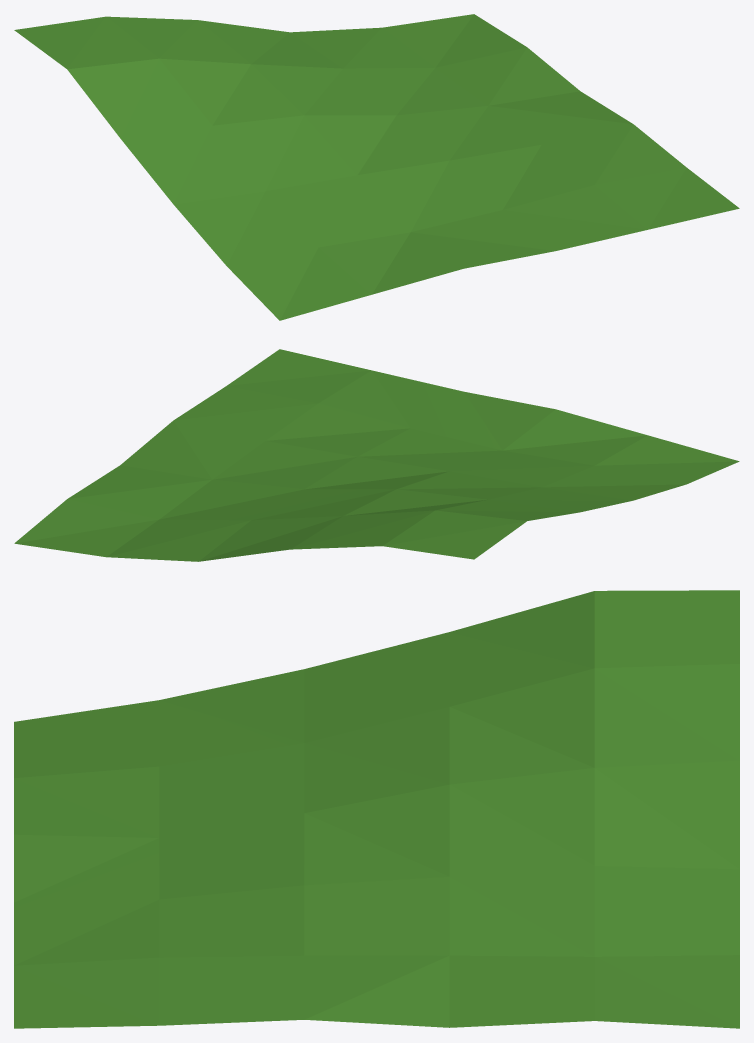
Rendered from terrain-plane-hill3.glb.
The picture shows the model from 3 angles, top to bottom: view 1: azimuth 30°, elevation 25°; view 2: azimuth 150°, elevation 25°; view 3: azimuth 270°, elevation 25°; orthographic projection. The views are drawn at different scales.
Parts seen in each view (by area): view 1: terrain-plane-hill3; view 2: terrain-plane-hill3; view 3: terrain-plane-hill3.
Part boxes in pixels (<box>): terrain-plane-hill3: <box>14,14,739,320</box>; terrain-plane-hill3: <box>14,349,739,561</box>; terrain-plane-hill3: <box>14,590,739,1028</box>.
Bounding box in the file's own units: 30 × 6 × 30.
1 material, 1 textured.
